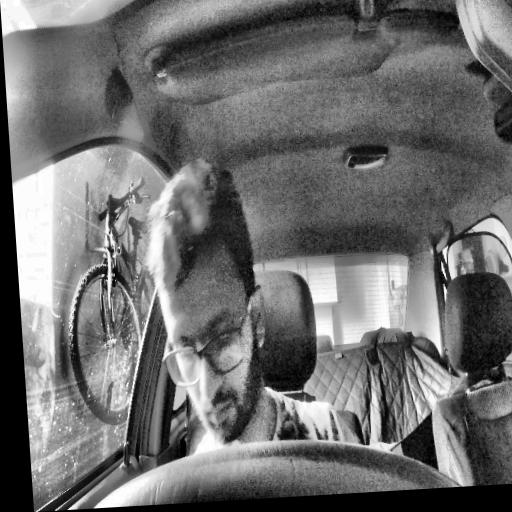drowsy: (143, 155, 273, 448)
